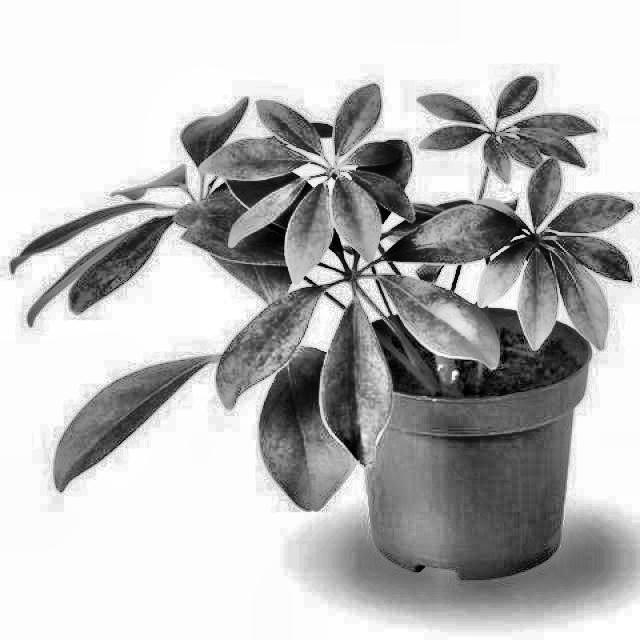plants: (21, 90, 610, 584)
